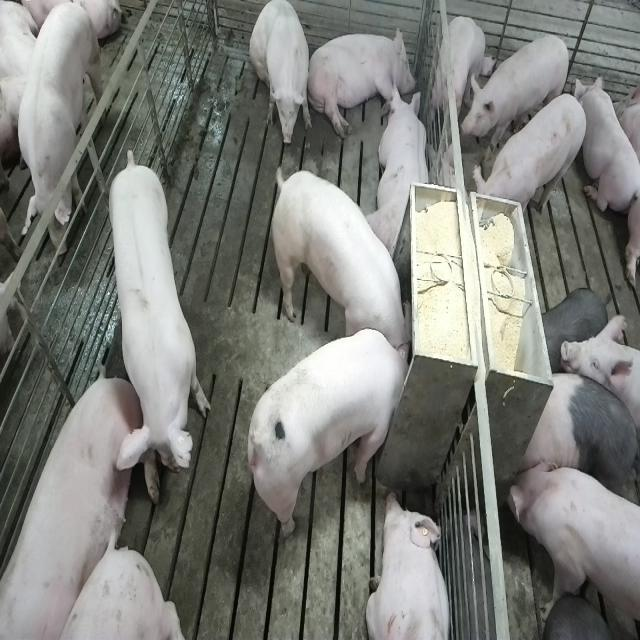Feeding: (247, 323, 415, 534), (270, 158, 416, 364)
Lateral_lying: (308, 22, 418, 138)
Sitting: (249, 0, 312, 147)
Standing: (108, 145, 212, 491), (506, 450, 640, 626), (16, 0, 104, 254), (514, 366, 640, 486), (471, 92, 587, 222), (460, 34, 570, 162), (431, 9, 485, 143)
Sternal_lying: (0, 362, 158, 640), (367, 486, 454, 640), (365, 80, 431, 255), (572, 72, 640, 212)
